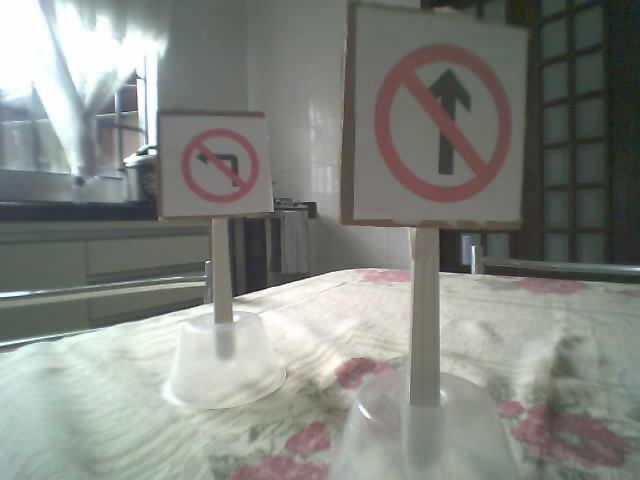R-3_sentido-proibido: (371, 43, 512, 201)
R-4a_proibido-esquerda: (181, 127, 259, 202)
